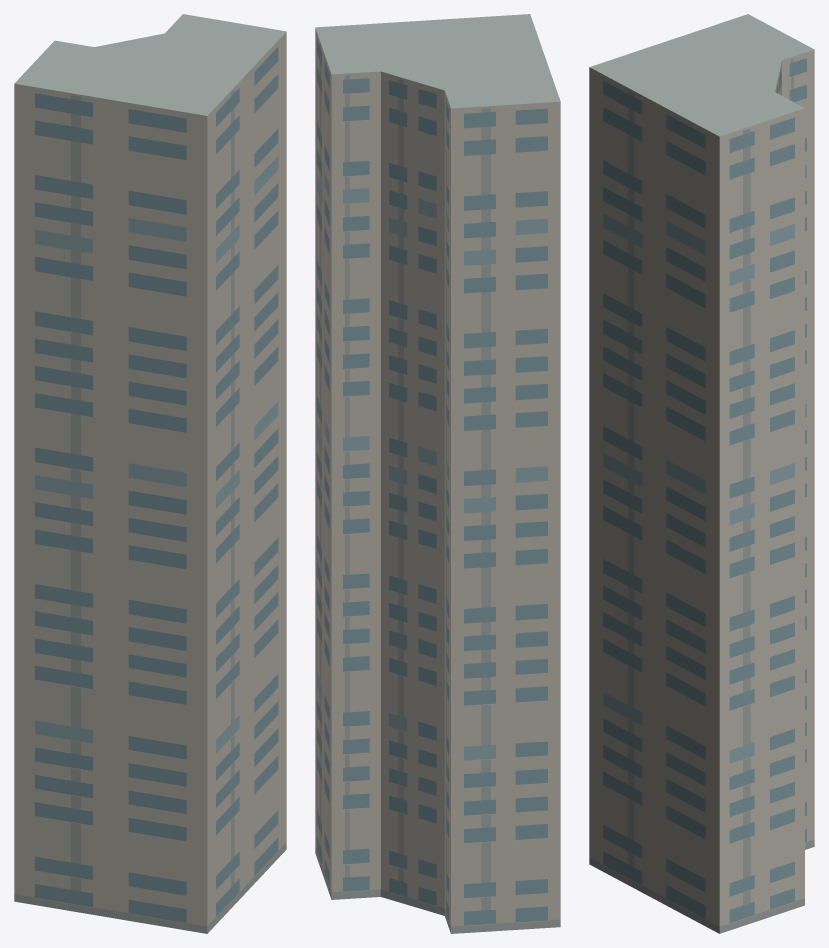
Rendered from residential-724d5ab3-e257-4ec8-8d33-e24bcc59b521.glb.
The picture shows the model from 3 angles, left to right: view 1: azimuth 30°, elevation 25°; view 2: azimuth 150°, elevation 25°; view 3: azimuth 270°, elevation 25°; orthographic projection. The views are drawn at different scales.
Visible parts, largest first — view 1: residential-724d5ab3-e257-4ec8-8d33-e24bcc59b521.tmp; view 2: residential-724d5ab3-e257-4ec8-8d33-e24bcc59b521.tmp; view 3: residential-724d5ab3-e257-4ec8-8d33-e24bcc59b521.tmp.
Part boxes in pixels (x1=…): residential-724d5ab3-e257-4ec8-8d33-e24bcc59b521.tmp: x1=14, y1=14, x2=286, y2=933; residential-724d5ab3-e257-4ec8-8d33-e24bcc59b521.tmp: x1=315, y1=14, x2=560, y2=933; residential-724d5ab3-e257-4ec8-8d33-e24bcc59b521.tmp: x1=589, y1=14, x2=814, y2=933.
Size of the model in its own units: 33.99 by 103 by 26.38.
